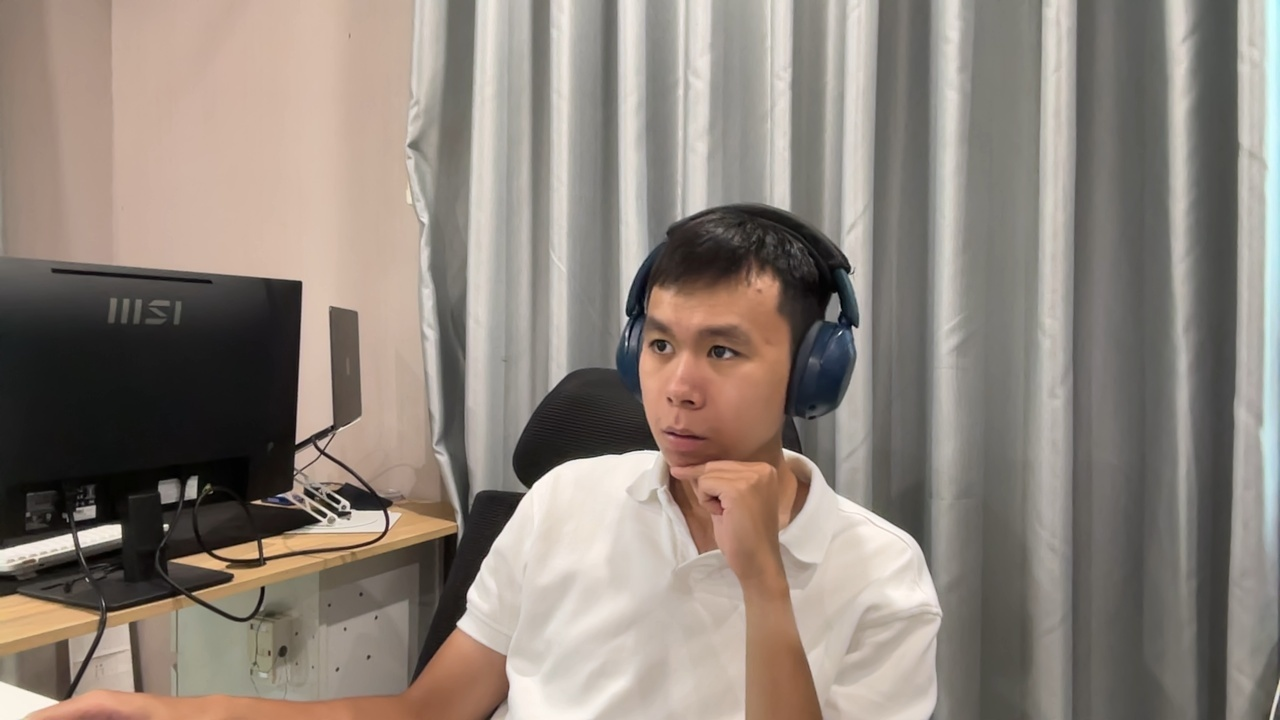over_ear: (615, 203, 861, 428), (747, 213, 861, 426), (785, 266, 860, 425)
